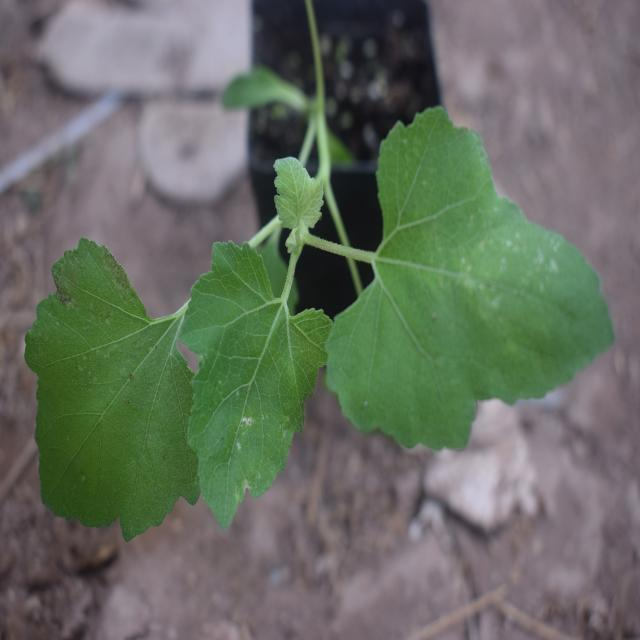cocklebur: (25, 153, 617, 523)
